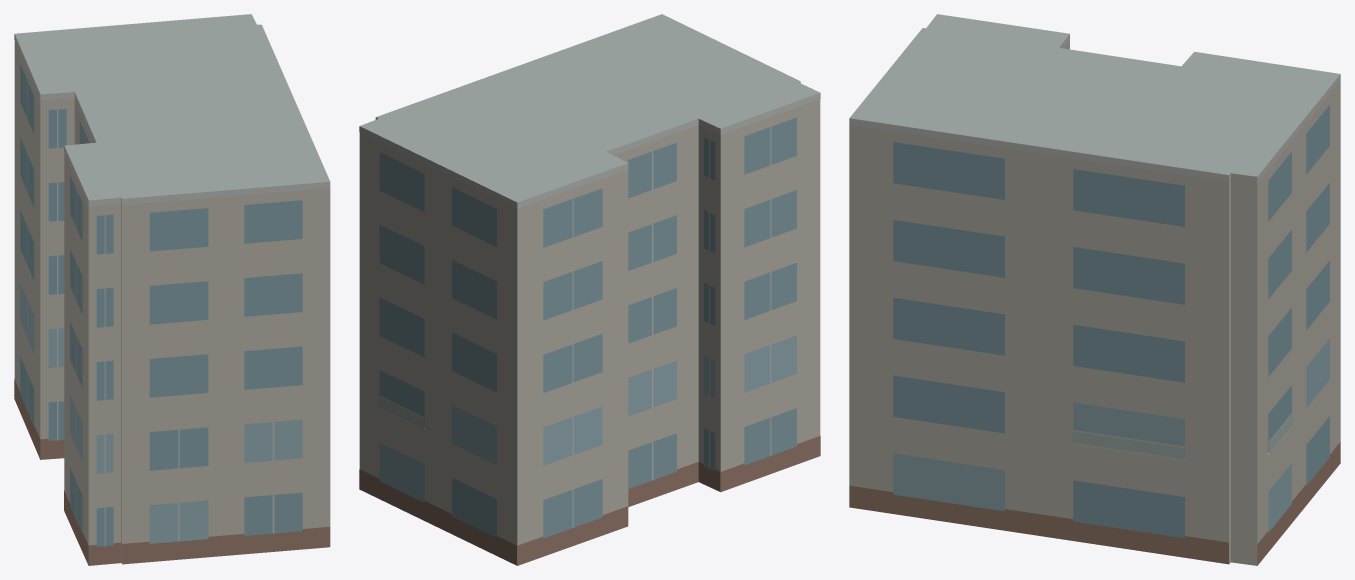
Rendered from survey-upis-32890007.glb.
The picture shows the model from 3 angles, left to right: view 1: azimuth 30°, elevation 25°; view 2: azimuth 150°, elevation 25°; view 3: azimuth 270°, elevation 25°; orthographic projection. The views are drawn at different scales.
Visible parts, largest first — view 1: survey-upis-32890007.tmp; view 2: survey-upis-32890007.tmp; view 3: survey-upis-32890007.tmp.
Boxes of the visible parts, x1,y1,x2,y2 form: survey-upis-32890007.tmp: (14, 14, 330, 565); survey-upis-32890007.tmp: (359, 14, 820, 565); survey-upis-32890007.tmp: (849, 14, 1340, 565).
Bounding box in the file's own units: 12.74 × 14.2 × 16.26.
